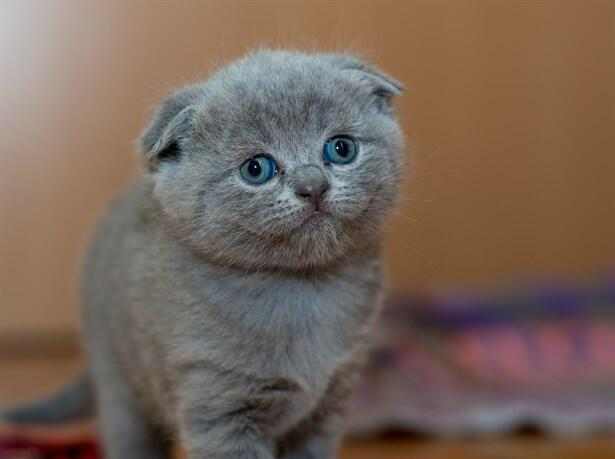cat: (143, 51, 395, 411)
